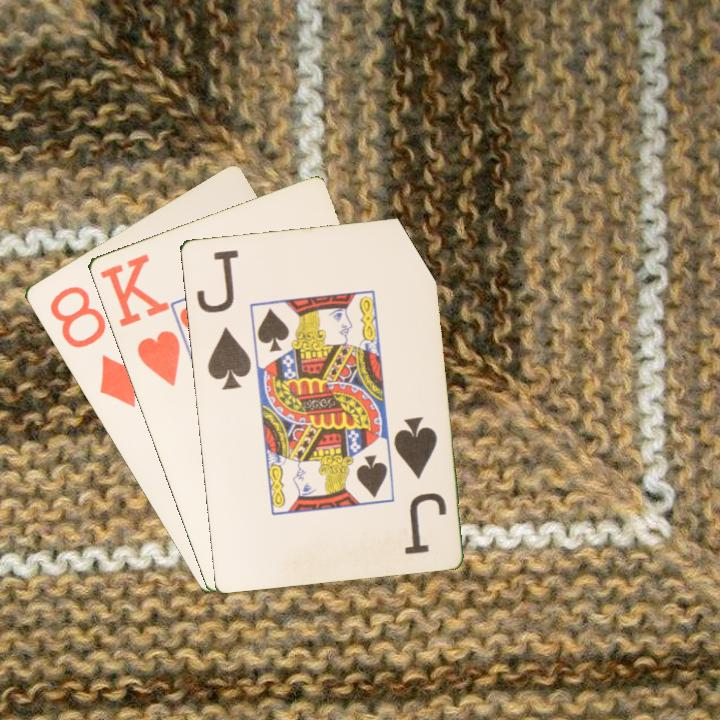8d: (45, 282, 140, 411)
Js: (192, 246, 254, 392), (389, 413, 449, 557)
Kh: (95, 249, 183, 389)
